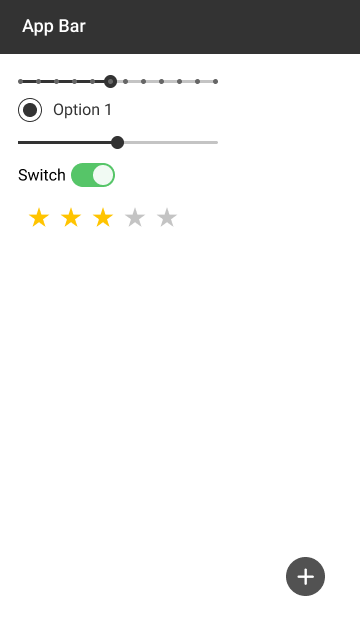floatingButton: (284, 554, 329, 597)
radioButton: (16, 96, 120, 124)
ratingBar: (27, 202, 184, 233)
slider: (16, 73, 224, 89)
slider1: (14, 129, 224, 151)
switch: (15, 162, 120, 191)
toolbar: (1, 2, 360, 55)
